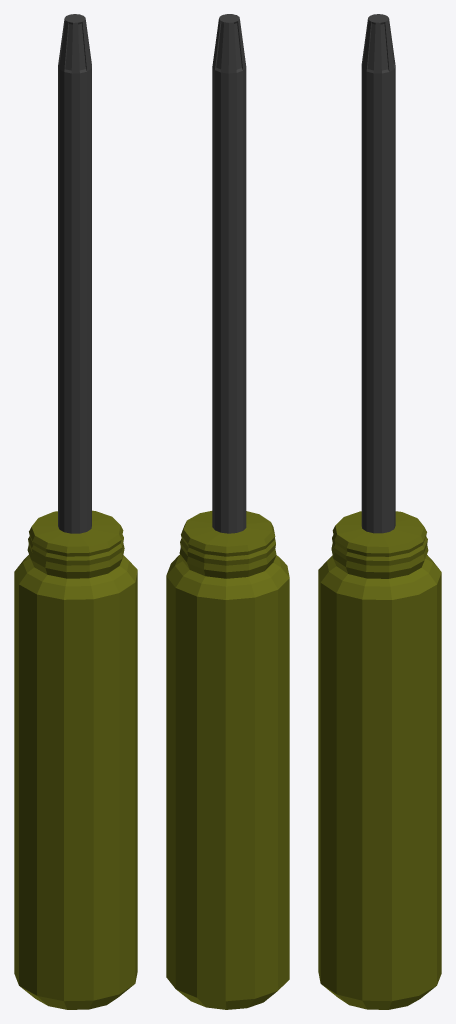
File: screwdriver.fbx
3 renders of one model, left to right at view 1: azimuth 30°, elevation 25°; view 2: azimuth 150°, elevation 25°; view 3: azimuth 330°, elevation 25°, orthographic.
Visible parts, largest first — view 1: Cylinder; view 2: Cylinder; view 3: Cylinder.
Part boxes in pixels (box(x1,y1,x2,y2)): Cylinder: box(14, 14, 137, 1009); Cylinder: box(166, 14, 289, 1009); Cylinder: box(318, 14, 441, 1009).
Size of the model in its own units: 153 by 1327 by 152.
